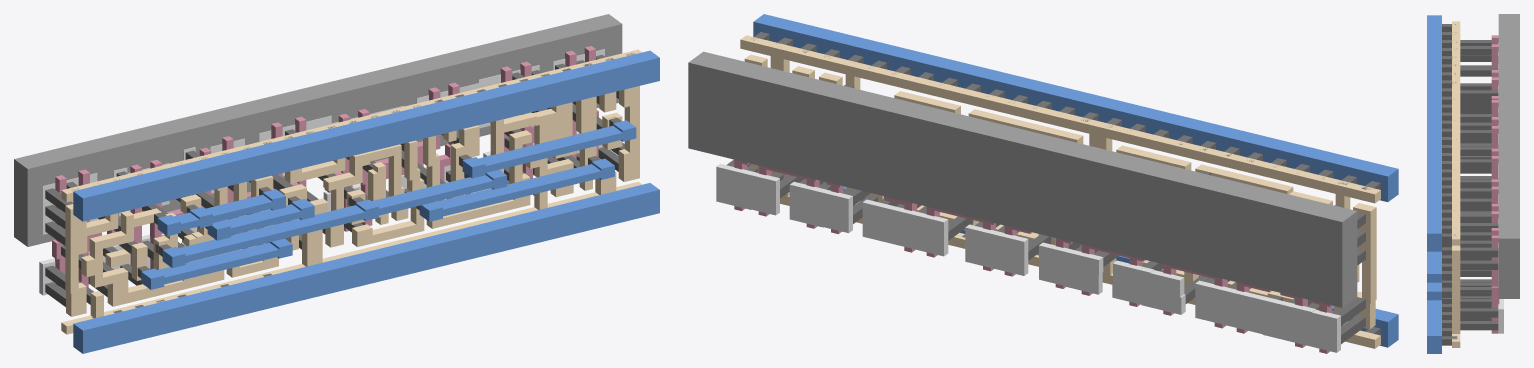
Rendered from sky130_fd_sc_hd__fahcin_1.gds.gltf.
The picture shows the model from 3 angles, left to right: view 1: azimuth 30°, elevation 25°; view 2: azimuth 150°, elevation 25°; view 3: azimuth 270°, elevation 25°; orthographic projection. The views are drawn at different scales.
Parts seen in each view (by area): view 1: sky130_fd_sc_hd__fahcin_1_met1, sky130_fd_sc_hd__fahcin_1_li1, sky130_fd_sc_hd__fahcin_1_nwell, sky130_fd_sc_hd__fahcin_1_licon, sky130_fd_sc_hd__fahcin_1_poly, sky130_fd_sc_hd__fahcin_1_diff, sky130_fd_sc_hd__fahcin_1_mcon; view 2: sky130_fd_sc_hd__fahcin_1_nwell, sky130_fd_sc_hd__fahcin_1_diff, sky130_fd_sc_hd__fahcin_1_li1, sky130_fd_sc_hd__fahcin_1_met1, sky130_fd_sc_hd__fahcin_1_licon, sky130_fd_sc_hd__fahcin_1_poly, sky130_fd_sc_hd__fahcin_1_mcon; view 3: sky130_fd_sc_hd__fahcin_1_licon, sky130_fd_sc_hd__fahcin_1_nwell, sky130_fd_sc_hd__fahcin_1_met1, sky130_fd_sc_hd__fahcin_1_mcon, sky130_fd_sc_hd__fahcin_1_li1, sky130_fd_sc_hd__fahcin_1_poly, sky130_fd_sc_hd__fahcin_1_diff.
Part boxes in pixels (x1,y1,x2,y2): sky130_fd_sc_hd__fahcin_1_met1: [73, 50, 659, 353]; sky130_fd_sc_hd__fahcin_1_li1: [61, 49, 641, 334]; sky130_fd_sc_hd__fahcin_1_nwell: [14, 14, 622, 246]; sky130_fd_sc_hd__fahcin_1_licon: [45, 55, 624, 306]; sky130_fd_sc_hd__fahcin_1_poly: [52, 46, 598, 290]; sky130_fd_sc_hd__fahcin_1_diff: [39, 49, 604, 295]; sky130_fd_sc_hd__fahcin_1_mcon: [72, 53, 634, 318]; sky130_fd_sc_hd__fahcin_1_nwell: [688, 51, 1357, 307]; sky130_fd_sc_hd__fahcin_1_diff: [716, 163, 1340, 352]; sky130_fd_sc_hd__fahcin_1_li1: [740, 35, 1380, 348]; sky130_fd_sc_hd__fahcin_1_met1: [753, 14, 1398, 347]; sky130_fd_sc_hd__fahcin_1_licon: [726, 84, 1365, 344]; sky130_fd_sc_hd__fahcin_1_poly: [734, 159, 1332, 353]; sky130_fd_sc_hd__fahcin_1_mcon: [751, 32, 1380, 336]; sky130_fd_sc_hd__fahcin_1_licon: [1460, 40, 1498, 330]; sky130_fd_sc_hd__fahcin_1_nwell: [1498, 14, 1519, 298]; sky130_fd_sc_hd__fahcin_1_met1: [1427, 15, 1441, 353]; sky130_fd_sc_hd__fahcin_1_mcon: [1442, 24, 1457, 345]; sky130_fd_sc_hd__fahcin_1_li1: [1452, 21, 1460, 347]; sky130_fd_sc_hd__fahcin_1_poly: [1491, 35, 1499, 333]; sky130_fd_sc_hd__fahcin_1_diff: [1498, 43, 1503, 333].
Bounding box in the file's own units: 12.8 × 3.2 × 2.24.
